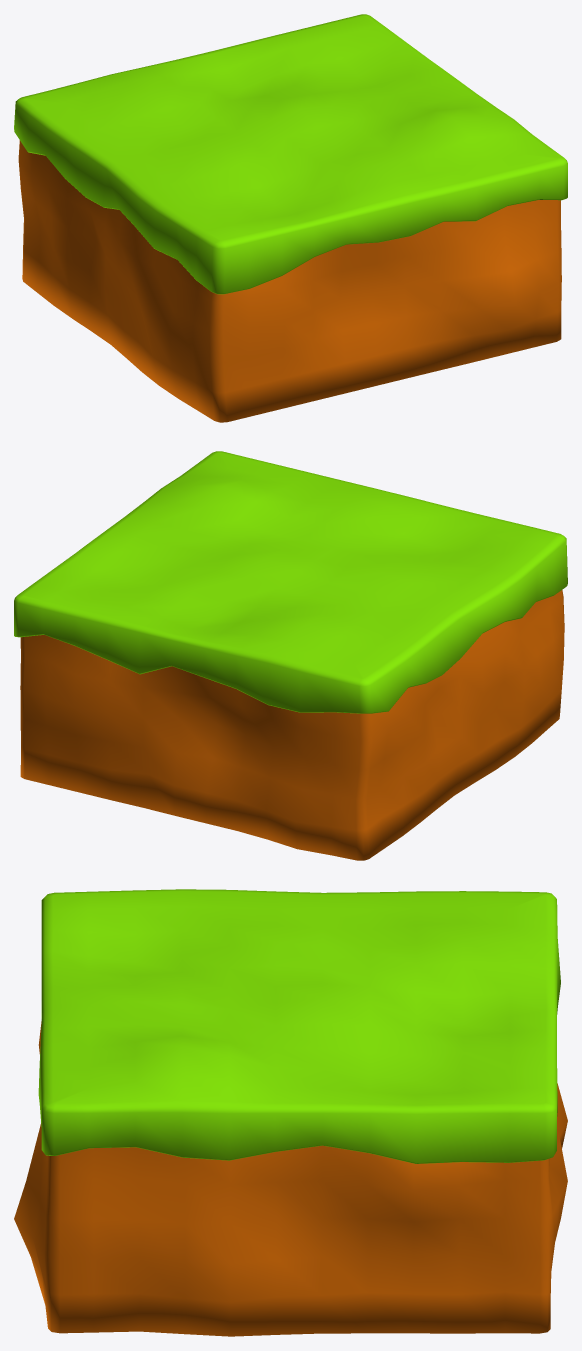
File: Hill.gltf
3 views of the same model, one above another, from view 1: azimuth 30°, elevation 25°; view 2: azimuth 150°, elevation 25°; view 3: azimuth 270°, elevation 25° (orthographic). The views are drawn at different scales.
Parts seen in each view (by area): view 1: Cube.001, Cube; view 2: Cube.001, Cube; view 3: Cube.001, Cube.
Boxes of the visible parts, x1,y1,x2,y2 form: Cube.001: [14, 14, 567, 294]; Cube: [18, 140, 561, 422]; Cube.001: [14, 451, 567, 713]; Cube: [20, 590, 564, 860]; Cube.001: [38, 889, 560, 1163]; Cube: [14, 1021, 567, 1336].
Bounding box in the file's own units: 21.85 × 10.97 × 22.04.
